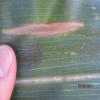Corn Gray leaf spot: (2, 10, 96, 45)
